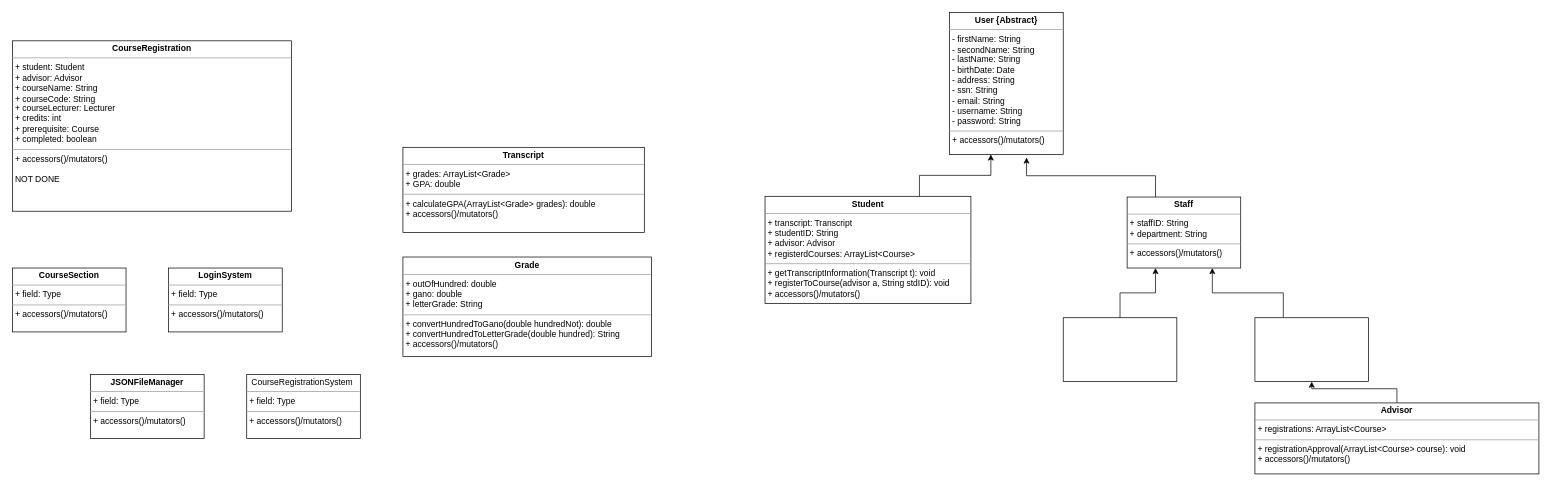
Image size: 1551x486. Some labels were removed from this diagram. Each missing label, with the centre of its shape:
Lecturer + profession: String + accessors()/mutators(): [1311,349]
StudentAffairsStaff + workingField: String + accessors()/mutators(): [1120,349]
